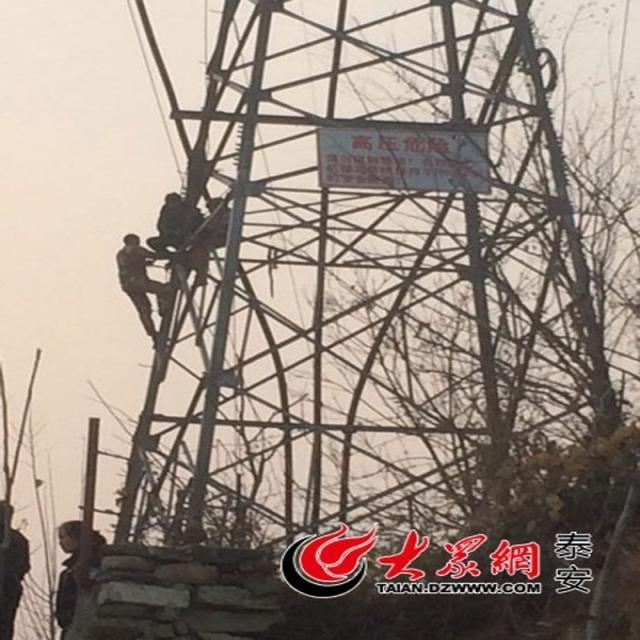non-critical vegetation: (100, 7, 626, 531)
